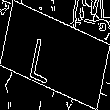L_N: (40, 26, 70, 84)
